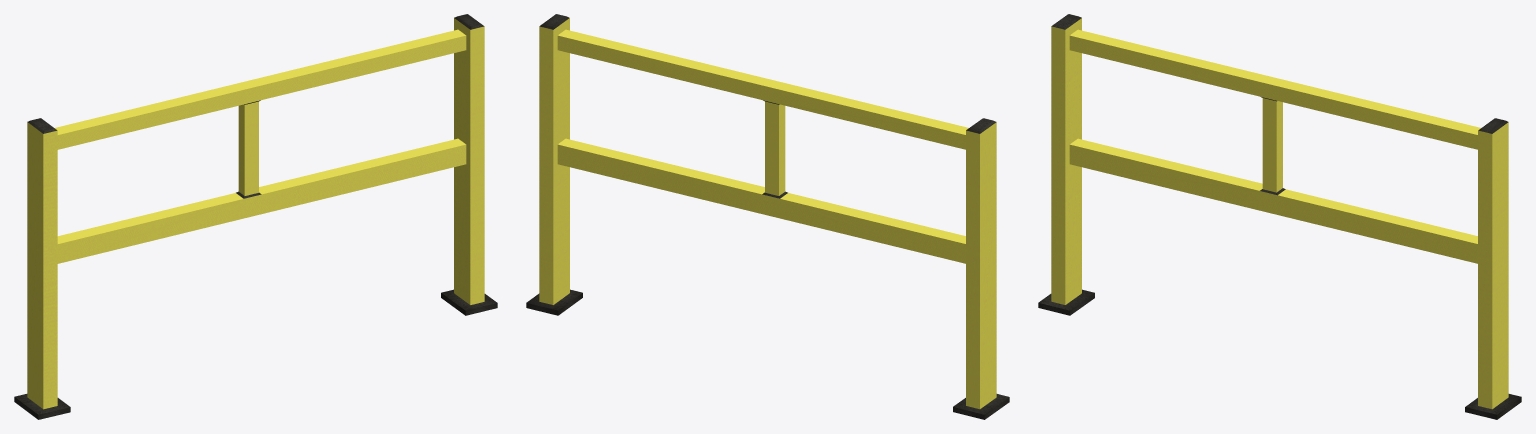
Rendered from Barrier.FBX.
The picture shows the model from 3 angles, left to right: view 1: azimuth 30°, elevation 25°; view 2: azimuth 150°, elevation 25°; view 3: azimuth 330°, elevation 25°; orthographic projection.
Visible parts, largest first — view 1: Barrier; view 2: Barrier; view 3: Barrier.
Boxes of the visible parts, bbox=[...] form: Barrier: bbox=[14, 14, 497, 419]; Barrier: bbox=[526, 14, 1009, 419]; Barrier: bbox=[1038, 14, 1521, 419].
Bounding box in the file's own units: 129 × 75.88 × 12.07.
